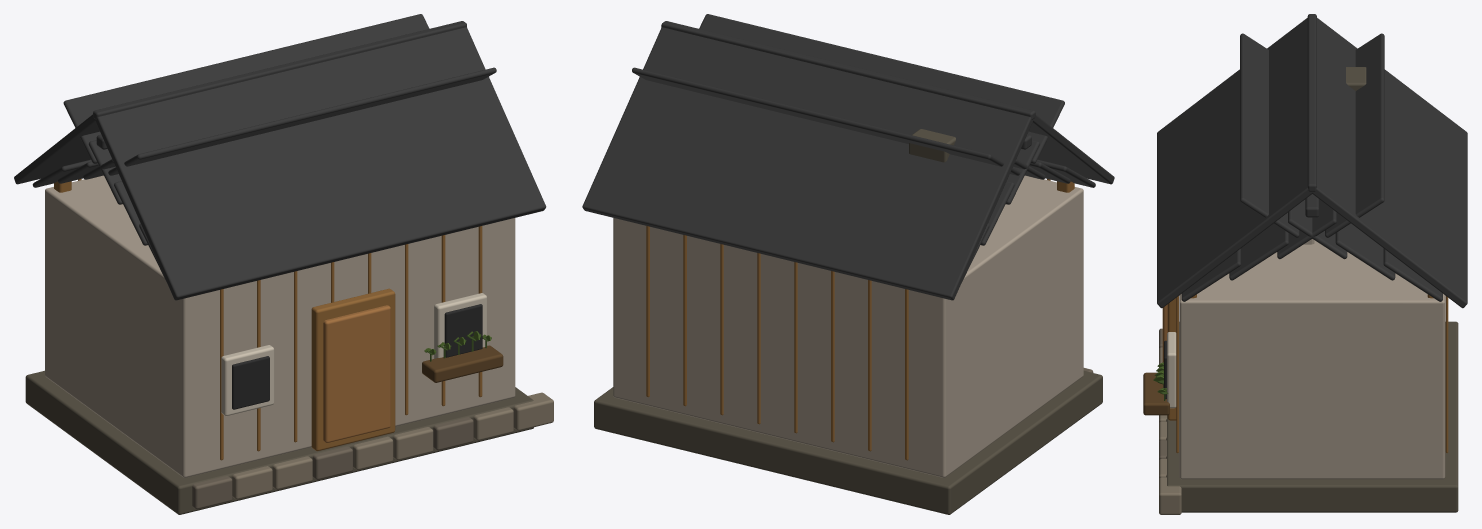
The model's file is cottage.glb.
3 views of the same model, side by side, from view 1: azimuth 30°, elevation 25°; view 2: azimuth 150°, elevation 25°; view 3: azimuth 270°, elevation 25° (orthographic). The views are drawn at different scales.
Parts seen in each view (by area): view 1: cottage-farm-roof-slate, cottage-farm-plaster, cottage-farm-stone-dark, cottage-farm-wood, cottage-farm-wood-dark, cottage-farm-stone, cottage-farm-window, cottage-farm-rock, cottage-farm-trim, cottage-farm-soil; view 2: cottage-farm-roof-slate, cottage-farm-plaster, cottage-farm-stone-dark, cottage-farm-wood-dark; view 3: cottage-farm-roof-slate, cottage-farm-plaster, cottage-farm-stone-dark, cottage-farm-wood-dark, cottage-farm-stone, cottage-farm-soil, cottage-farm-trim.
Part boxes in pixels (bbox=[...]): cottage-farm-roof-slate: bbox=[14, 14, 546, 300]; cottage-farm-plaster: bbox=[45, 175, 515, 477]; cottage-farm-stone-dark: bbox=[25, 370, 533, 514]; cottage-farm-wood: bbox=[323, 305, 390, 442]; cottage-farm-wood-dark: bbox=[54, 179, 482, 460]; cottage-farm-stone: bbox=[232, 392, 553, 499]; cottage-farm-window: bbox=[232, 304, 482, 409]; cottage-farm-rock: bbox=[192, 417, 473, 509]; cottage-farm-trim: bbox=[221, 293, 486, 416]; cottage-farm-soil: bbox=[422, 345, 503, 382]; cottage-farm-roof-slate: bbox=[582, 14, 1114, 300]; cottage-farm-plaster: bbox=[613, 175, 1083, 477]; cottage-farm-stone-dark: bbox=[594, 129, 1102, 514]; cottage-farm-wood-dark: bbox=[646, 179, 1074, 460]; cottage-farm-roof-slate: bbox=[1157, 14, 1467, 308]; cottage-farm-plaster: bbox=[1179, 239, 1445, 479]; cottage-farm-stone-dark: bbox=[1166, 67, 1458, 512]; cottage-farm-wood-dark: bbox=[1167, 294, 1448, 453]; cottage-farm-stone: bbox=[1159, 347, 1181, 514]; cottage-farm-soil: bbox=[1143, 372, 1169, 415]; cottage-farm-trim: bbox=[1167, 332, 1176, 408].
Bounding box in the file's own units: 5.48 × 4.82 × 4.27.
